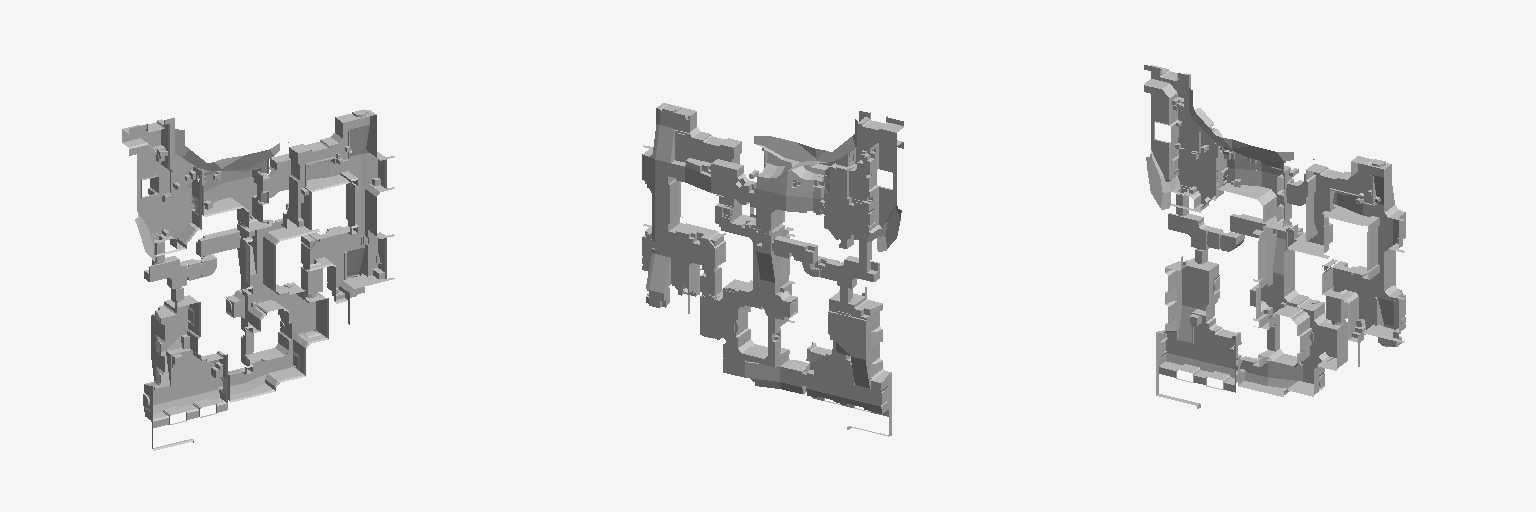
Rendered from dust2.obj.
The picture shows the model from 3 angles: view 1: azimuth 30°, elevation 25°; view 2: azimuth 150°, elevation 25°; view 3: azimuth 330°, elevation 25°; orthographic projection.
Parts seen in each view (by area): view 1: Dust2; view 2: Dust2; view 3: Dust2.
Part boxes in pixels (bbox=[...]): Dust2: bbox=[122, 109, 394, 450]; Dust2: bbox=[642, 103, 903, 436]; Dust2: bbox=[1144, 65, 1405, 408].
Size of the model in its own units: 112 by 133 by 15.2.